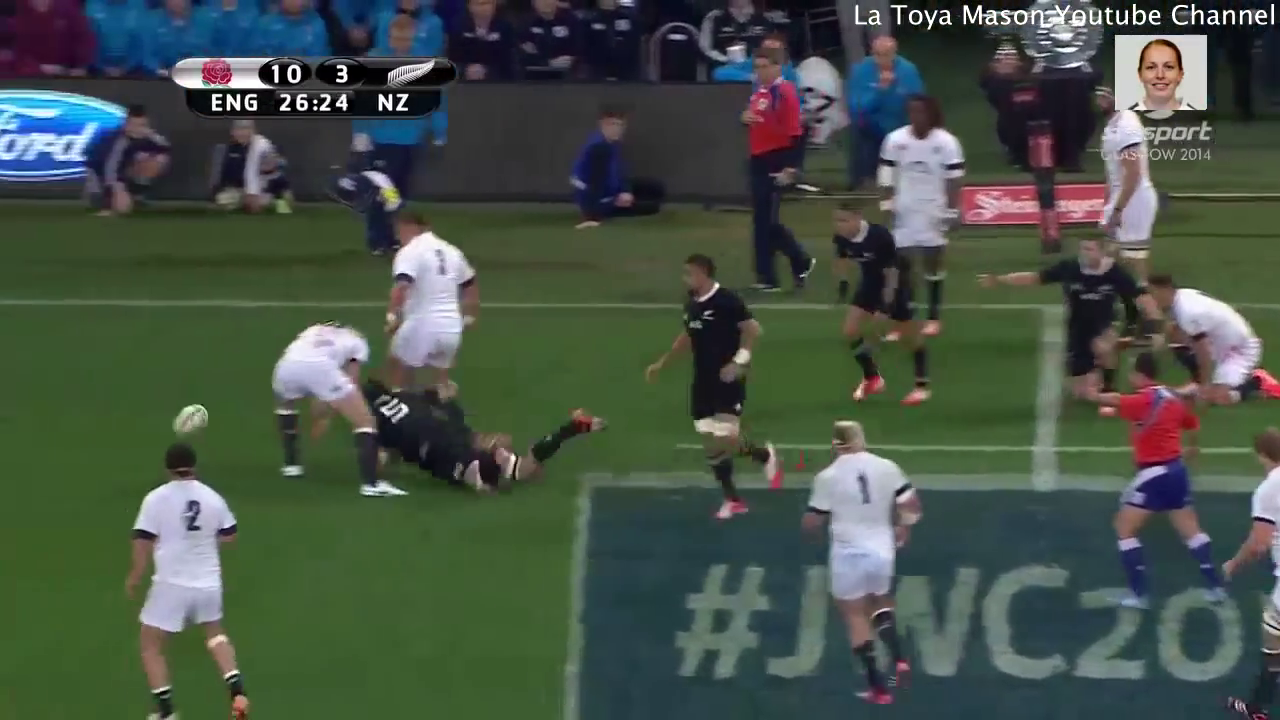ball: (165, 395, 220, 458)
player: (1071, 349, 1237, 624), (629, 245, 788, 520), (116, 440, 270, 720), (790, 410, 927, 710), (344, 370, 622, 503), (955, 228, 1134, 418), (264, 305, 420, 508), (856, 84, 969, 362), (805, 193, 941, 423), (721, 46, 825, 301), (367, 204, 490, 400), (1081, 73, 1173, 296), (1215, 416, 1280, 720), (1142, 271, 1280, 409)
